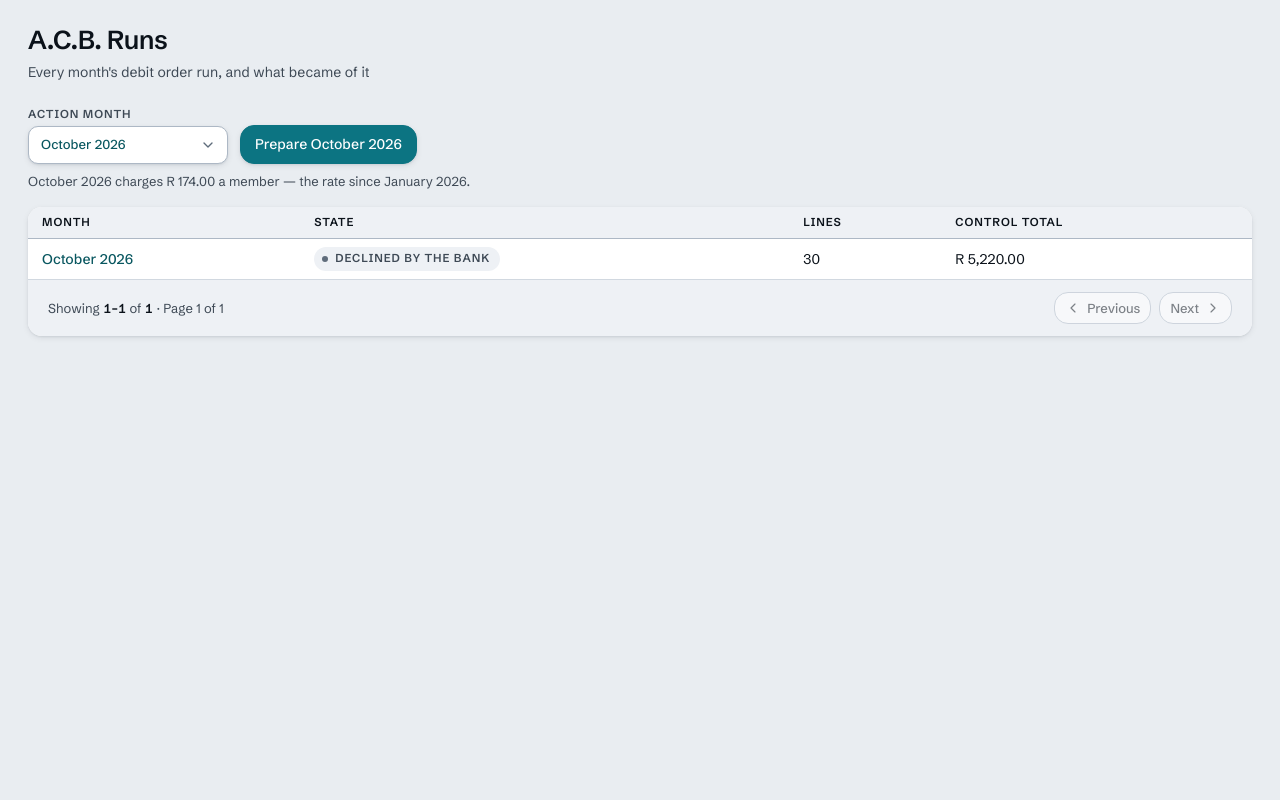
a month the bank declined (D29, SD3-H) › the prepare dialog warns when the month's last file was declined for a wrong date -- a warning, never a refusal
Expected: the button with aria-label "Open the October 2026 run" is shown, 42,249 -> 133,270
Select "October 2026" in the dropdown labelled "Action month" at (128, 145), box 28,126 -> 228,164
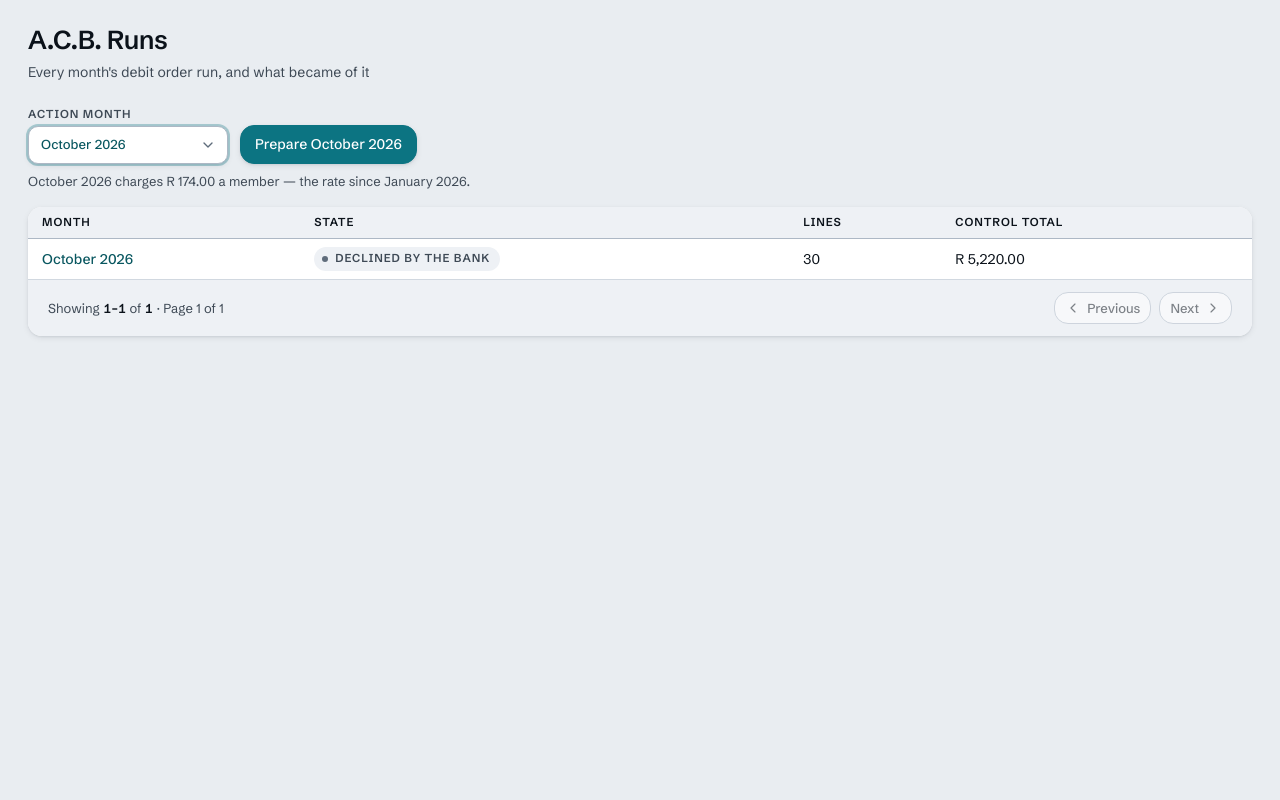
Click the button "Prepare October 2026".
click(328, 145)  # box 240,125 -> 417,164
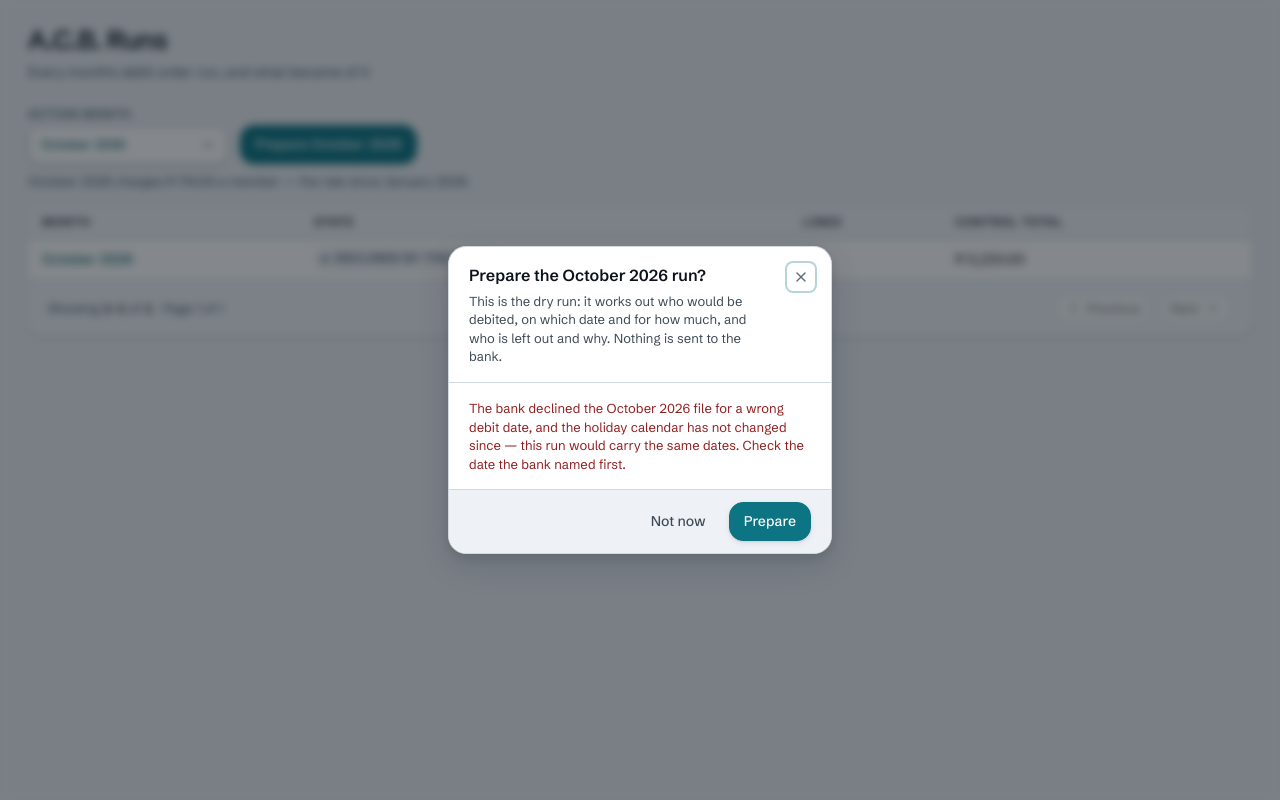
Expected: the text "declined the October 2026 file for a wrong debit date" is shown, 469,400 -> 804,472
Expected: the button "Prepare" is enabled, 729,502 -> 811,541
